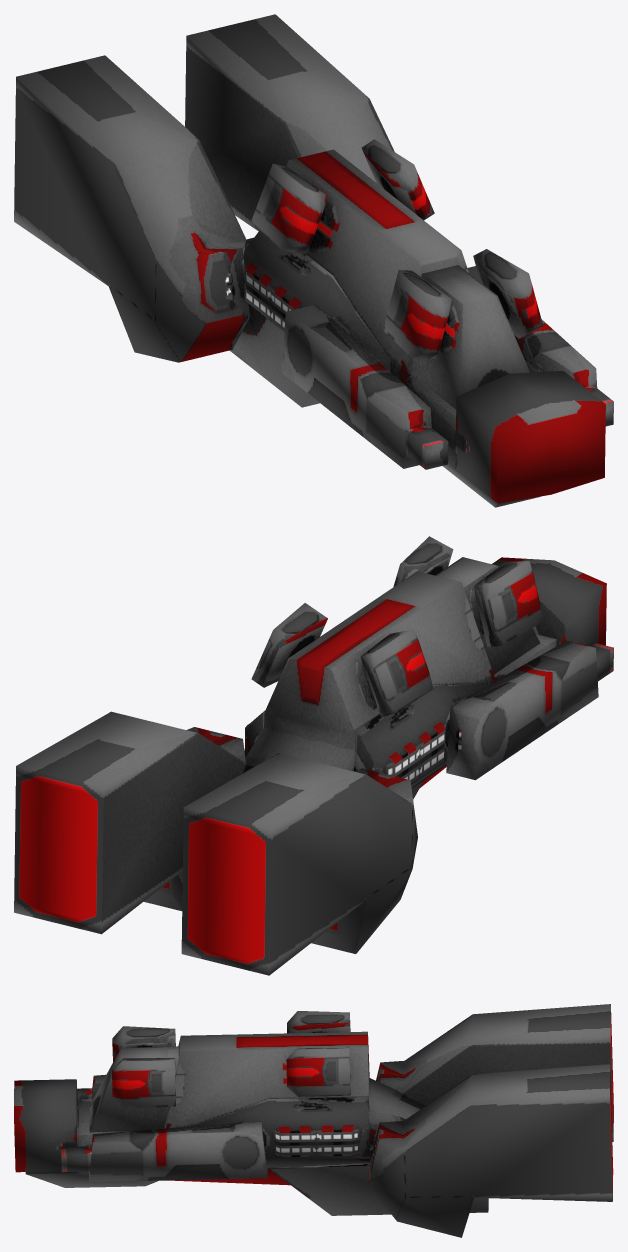
File: red_spaceship_03.fbx
The picture shows the model from 3 angles, top to bottom: view 1: azimuth 30°, elevation 25°; view 2: azimuth 150°, elevation 25°; view 3: azimuth 270°, elevation 25°; orthographic projection. The views are drawn at different scales.
Parts seen in each view (by area): view 1: RSFrigateMod; view 2: RSFrigateMod; view 3: RSFrigateMod.
Boxes of the visible parts, left/top/right/bottom form: RSFrigateMod: left=14, top=14, right=613, bottom=507; RSFrigateMod: left=14, top=536, right=613, bottom=975; RSFrigateMod: left=14, top=1004, right=613, bottom=1237.
Bounding box in the file's own units: 1171 × 3225 × 1030.
